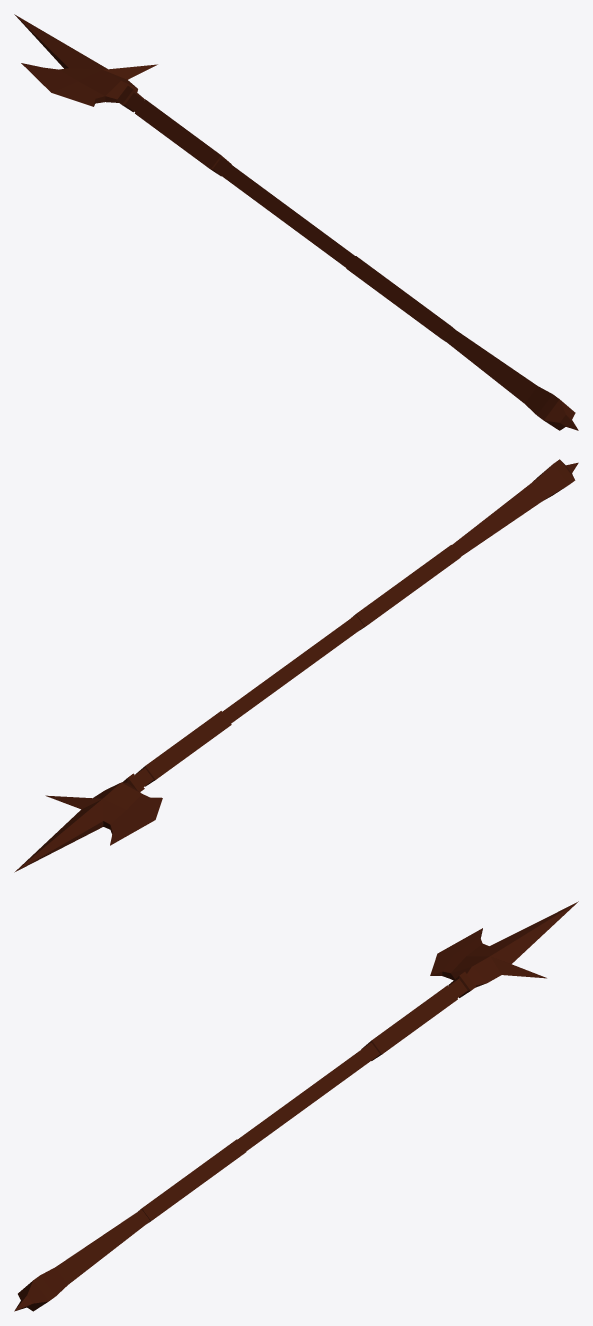
The model's file is Halberd.glb.
3 renders of one model, top to bottom at view 1: azimuth 30°, elevation 25°; view 2: azimuth 150°, elevation 25°; view 3: azimuth 330°, elevation 25°, orthographic.
Parts seen in each view (by area): view 1: Halberd; view 2: Halberd; view 3: Halberd.
Boxes of the visible parts, bbox=[...] form: Halberd: bbox=[14, 14, 578, 430]; Halberd: bbox=[14, 459, 578, 872]; Halberd: bbox=[14, 901, 578, 1311].
Bounding box in the file's own units: 31.69 × 8.75 × 284.
